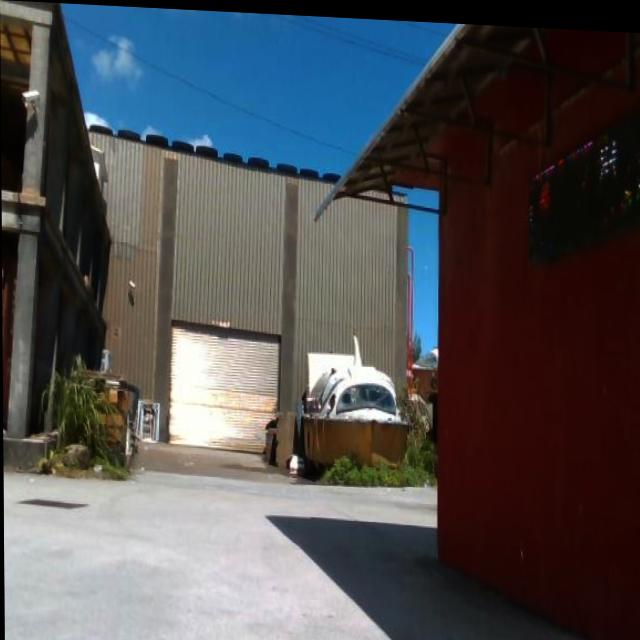pollute: (80, 345, 161, 474), (266, 407, 304, 472)
